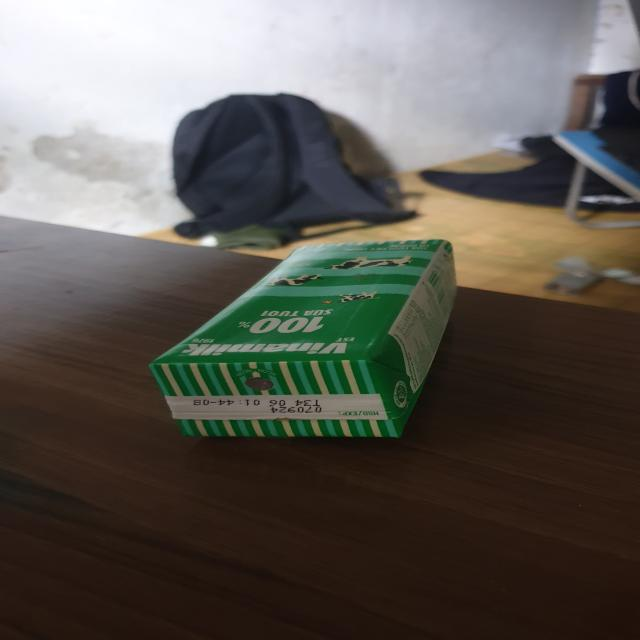Vina: (141, 237, 465, 442)
